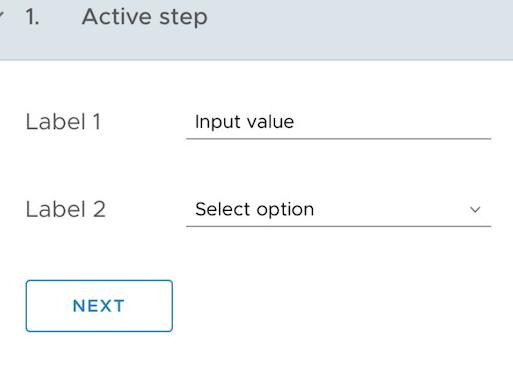button: (23, 280, 175, 334)
field: (181, 191, 496, 231), (181, 106, 496, 144)
field_with_label: (25, 187, 502, 232), (23, 102, 500, 146)
